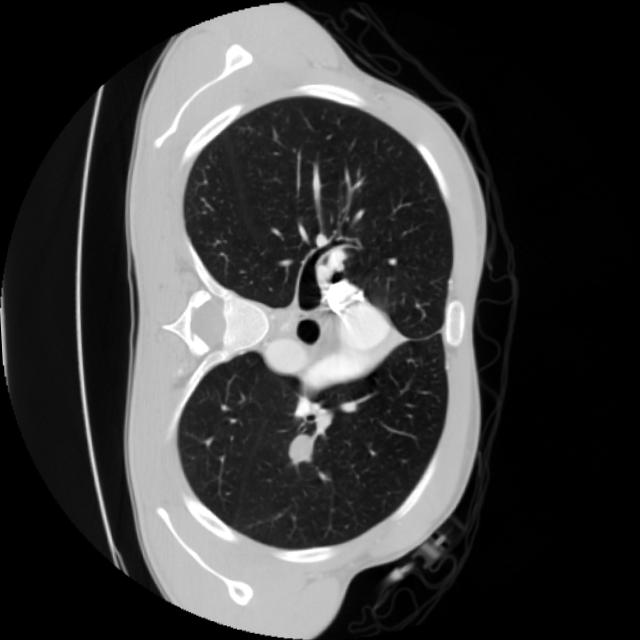nodule: (271, 416, 332, 476)
